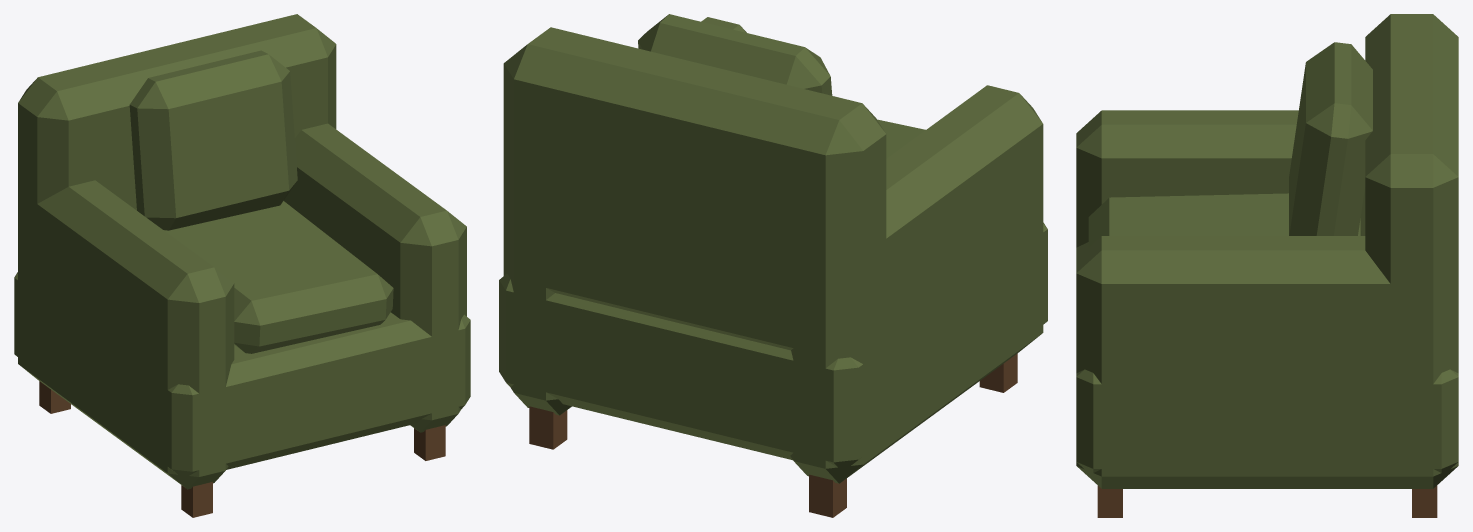
Rendered from armchair.glb.
The picture shows the model from 3 angles, left to right: view 1: azimuth 30°, elevation 25°; view 2: azimuth 150°, elevation 25°; view 3: azimuth 270°, elevation 25°; orthographic projection. The views are drawn at different scales.
Visible parts, largest first — view 1: armchair; view 2: armchair; view 3: armchair.
Part boxes in pixels (x1,y1,x2,y2): armchair: (14,14,470,517); armchair: (499,14,1047,517); armchair: (1076,14,1458,517).
Bounding box in the file's own units: 0.9 × 0.9795 × 0.9.
